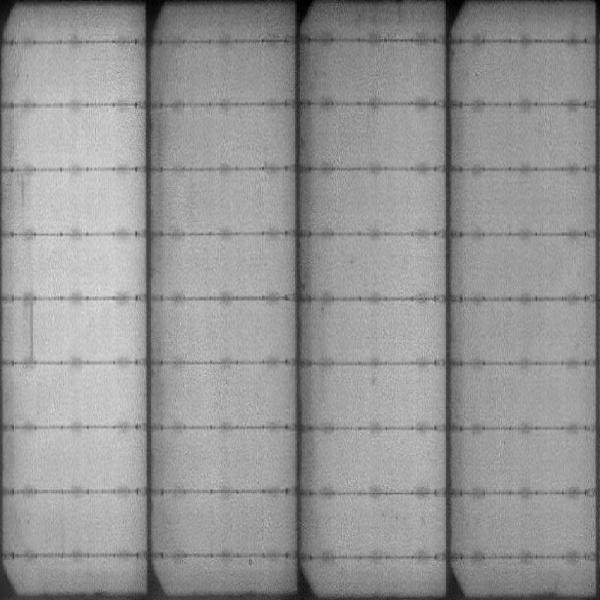scratch: (25, 301, 39, 362)
